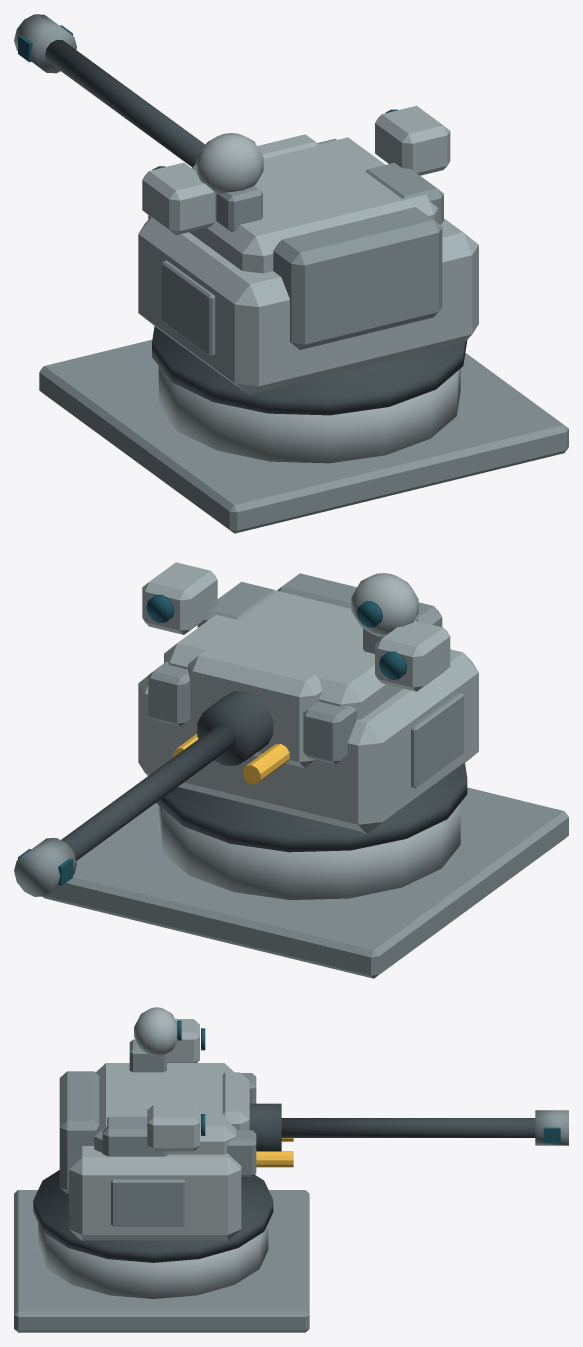
File: MOD_Gun76_U2.fbx
The picture shows the model from 3 angles, top to bottom: view 1: azimuth 30°, elevation 25°; view 2: azimuth 150°, elevation 25°; view 3: azimuth 270°, elevation 25°; orthographic projection. The views are drawn at different scales.
Parts seen in each view (by area): view 1: ModuleDeck, Turret lower body, U2 rear armor pack, Fixed pedestal, Turret sloped crown, Traverse bearing, 76mm barrel, U2 Port rangefinder, U2 Starboard rangefinder, Port access panel, U1 EO head, U1 loader fairing (+3 smaller); view 2: ModuleDeck, Turret lower body, Fixed pedestal, Turret sloped crown, Traverse bearing, U2 forward mantlet, 76mm barrel, U2 Port rangefinder, U2 Starboard rangefinder, Recoil sleeve, Port access panel, U1 EO head (+9 smaller); view 3: ModuleDeck, Turret lower body, Fixed pedestal, Turret sloped crown, Traverse bearing, 76mm barrel, Starboard access panel, U2 rear armor pack, U2 Starboard rangefinder, U1 loader fairing, U1 EO head, Recoil sleeve (+6 smaller).
Part boxes in pixels (x1,y1,x2,y2): ModuleDeck: [39, 339, 568, 533]; Turret lower body: [138, 217, 478, 394]; U2 rear armor pack: [273, 207, 442, 349]; Fixed pedestal: [158, 366, 460, 463]; Turret sloped crown: [189, 137, 438, 273]; Traverse bearing: [152, 326, 467, 415]; 76mm barrel: [45, 39, 205, 166]; U2 Port rangefinder: [142, 162, 216, 235]; U2 Starboard rangefinder: [375, 105, 450, 175]; Port access panel: [162, 260, 215, 356]; U1 EO head: [196, 133, 263, 194]; U1 loader fairing: [365, 162, 443, 224]; ModuleDeck: [43, 787, 568, 978]; Turret lower body: [138, 649, 478, 834]; Fixed pedestal: [158, 803, 460, 899]; Turret sloped crown: [164, 590, 402, 719]; Traverse bearing: [156, 763, 467, 852]; U2 forward mantlet: [188, 648, 322, 767]; 76mm barrel: [61, 724, 236, 860]; U2 Port rangefinder: [375, 620, 450, 691]; U2 Starboard rangefinder: [142, 562, 217, 634]; Recoil sleeve: [197, 691, 273, 765]; Port access panel: [411, 692, 463, 788]; U1 EO head: [351, 573, 418, 636]; ModuleDeck: [14, 1190, 309, 1332]; Turret lower body: [69, 1146, 241, 1241]; Fixed pedestal: [38, 1223, 268, 1298]; Turret sloped crown: [94, 1063, 236, 1154]; Traverse bearing: [33, 1170, 273, 1262]; 76mm barrel: [281, 1118, 535, 1137]; Starboard access panel: [111, 1179, 185, 1226]; U2 rear armor pack: [59, 1071, 99, 1193]; U2 Starboard rangefinder: [147, 1104, 199, 1151]; U1 loader fairing: [102, 1116, 169, 1156]; U1 EO head: [134, 1007, 177, 1055]; Recoil sleeve: [249, 1103, 281, 1151].
Size of the model in its own units: 175 by 152 by 329.
